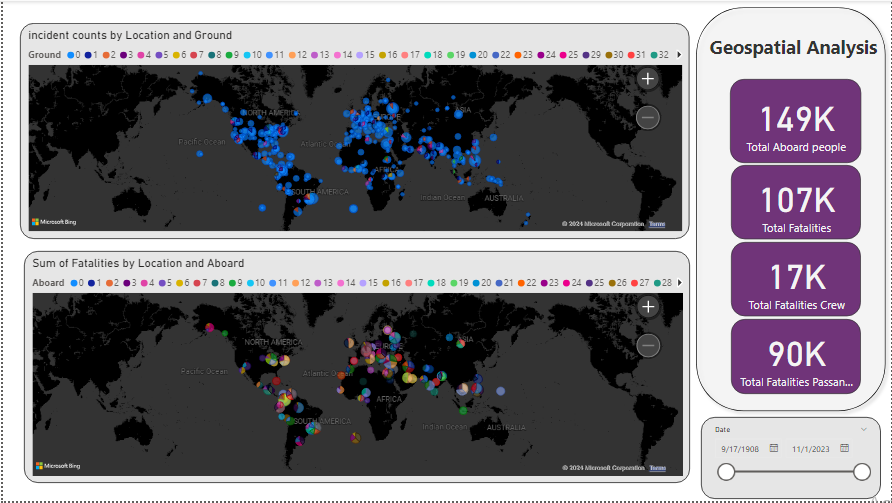

Layout of this report page (visuals, bound fields, positions):
{"tool":"powerbi","page":{"name":"Geospatial analysis","canvas":[1280,720],"ordinal":6},"visuals":[{"type":"card","fields":{"Values":["Sum(Airplane Crashes Analysis.Fatalities)"]},"box":[1048.3,236.2,187.2,106.6],"z":0},{"type":"card","fields":{"Values":["Sum(Airplane Crashes Analysis.Fatalities Crew)"]},"box":[1048.3,347,187.2,106.6],"z":1000},{"type":"card","fields":{"Values":["Sum(Airplane Crashes Analysis.Aboard)"]},"box":[1046.9,112.3,188.6,121],"z":2000},{"type":"card","fields":{"Values":["Sum(Airplane Crashes Analysis.Fatalities Passangers)"]},"box":[1048.3,457.9,187.2,108],"z":3000},{"type":"slicer","fields":{"Values":["Airplane Crashes Analysis.Date"]},"box":[1005.1,599,259.2,118.1],"z":4000},{"type":"textbox","box":[1007.9,42,260.4,48.7],"z":5000},{"type":"shape","box":[989.4,0,290.6,599.7],"z":6000},{"type":"map","fields":{"Category":["Airplane Crashes Analysis.Location"],"Size":["Measure.incident counts"],"Series":["Airplane Crashes Analysis.Ground"]},"box":[25.2,31.9,964.2,310.8],"z":7000},{"type":"map","fields":{"Category":["Airplane Crashes Analysis.Location"],"Size":["Sum(Airplane Crashes Analysis.Fatalities)"],"Series":["Airplane Crashes Analysis.Aboard"]},"box":[30.2,359.5,959.2,334.3],"z":8000}]}

Visuals, with their boxes in screenshot pixels (x1, y1, x2, y2), scaled from the page's 1280x720 canvas onto the 892x503 screenshot:
card - Sum(Airplane Crashes Analysis.Fatalities): locate(731, 165, 861, 239)
card - Sum(Airplane Crashes Analysis.Fatalities Crew): locate(731, 242, 861, 317)
card - Sum(Airplane Crashes Analysis.Aboard): locate(730, 78, 861, 163)
card - Sum(Airplane Crashes Analysis.Fatalities Passangers): locate(731, 320, 861, 395)
slicer - Airplane Crashes Analysis.Date: locate(700, 418, 881, 501)
textbox: locate(702, 29, 884, 63)
shape: locate(689, 0, 891, 419)
map - Airplane Crashes Analysis.Location x Measure.incident counts: locate(18, 22, 689, 239)
map - Airplane Crashes Analysis.Location x Sum(Airplane Crashes Analysis.Fatalities): locate(21, 251, 689, 485)
